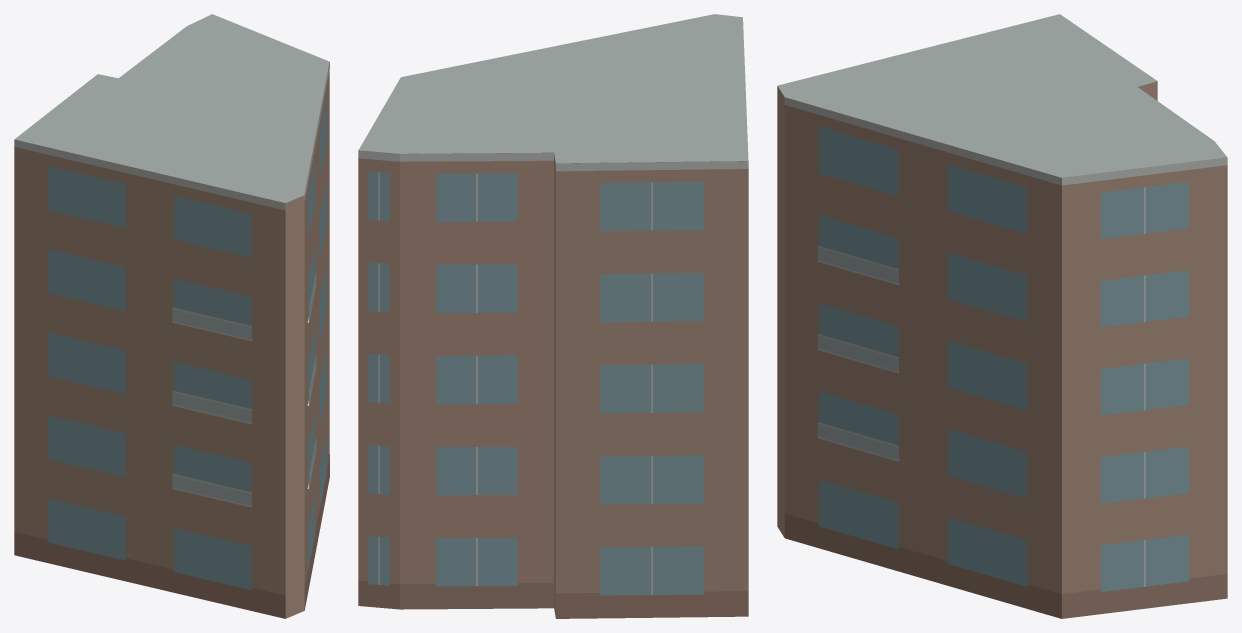
The model's file is survey-upis-32713163.glb.
3 renders of one model, left to right at view 1: azimuth 30°, elevation 25°; view 2: azimuth 150°, elevation 25°; view 3: azimuth 270°, elevation 25°, orthographic. The views are drawn at different scales.
Visible parts, largest first — view 1: survey-upis-32713163.tmp; view 2: survey-upis-32713163.tmp; view 3: survey-upis-32713163.tmp.
Boxes of the visible parts, bbox=[...] form: survey-upis-32713163.tmp: bbox=[14, 14, 329, 618]; survey-upis-32713163.tmp: bbox=[358, 14, 748, 618]; survey-upis-32713163.tmp: bbox=[777, 14, 1227, 618].
Bounding box in the file's own units: 11.08 × 13.9 × 12.87.
